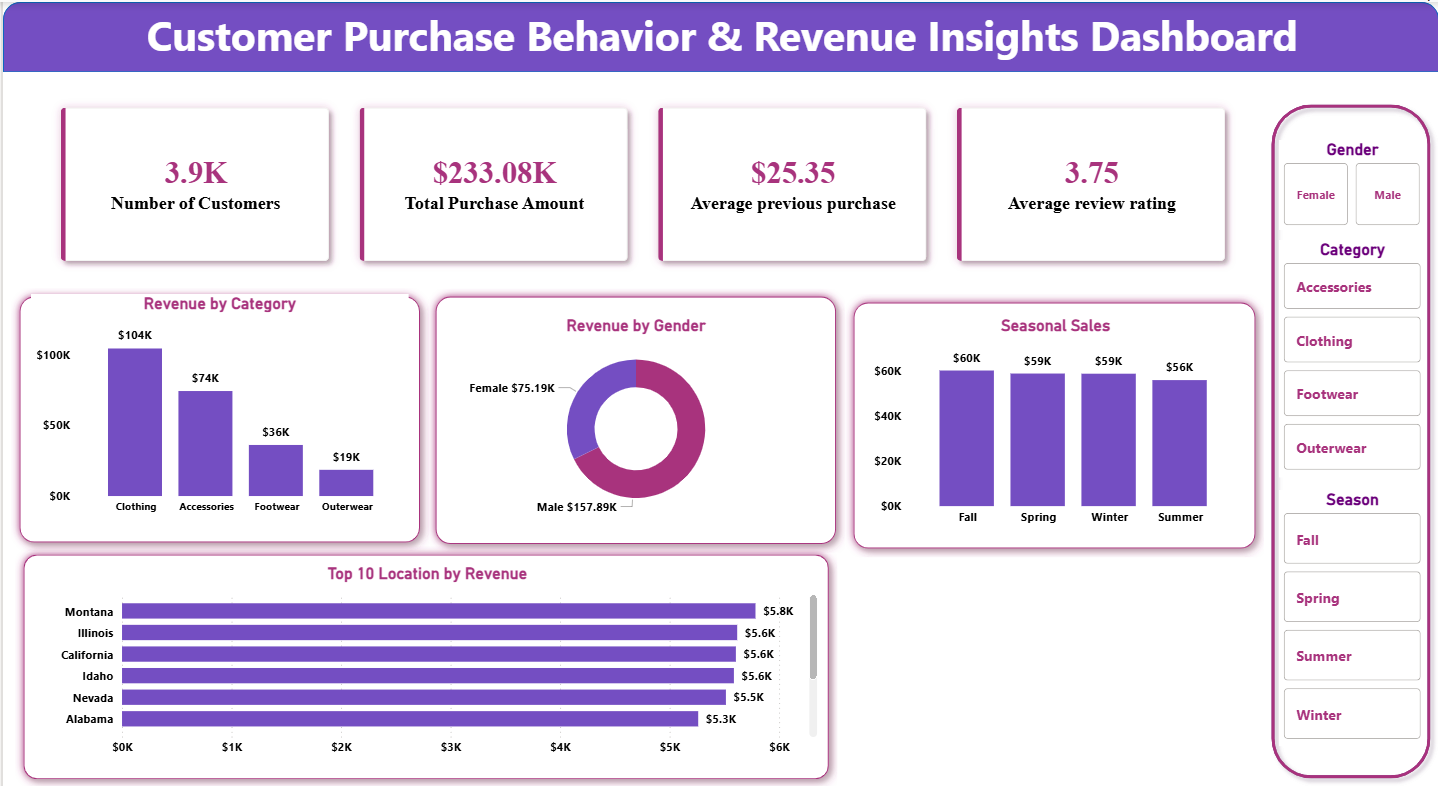

This screenshot's page, from the dashboard's own definition file:
{"tool":"powerbi","page":{"name":"Page 1","canvas":[1500,820],"ordinal":0},"visuals":[{"type":"shape","box":[880,304.8,437.7,274.9],"z":0},{"type":"shape","box":[443.7,298.8,436.3,276.4],"z":1000},{"type":"cardVisual","fields":{"Data":["cleaned_customer_data.Number of Customers","cleaned_customer_data.Total Purchase Amount","cleaned_customer_data.Average previous purchase","cleaned_customer_data.Average review rating"]},"box":[31.4,80.7,1275.9,218.1],"z":4000},{"type":"shape","box":[0,0,1500,73.2],"z":5000},{"type":"textbox","box":[13.4,0,1477.6,74.7],"z":6000},{"type":"donutChart","title":"Revenue by Gender","fields":{"Category":["cleaned_customer_data.gender"],"Y":["Sum(cleaned_customer_data.purchase_amount_usd)"]},"box":[470.6,328.7,382.5,216.6],"z":7000},{"type":"shape","box":[7.5,298.8,436.3,274.9],"z":8000},{"type":"clusteredColumnChart","title":"Revenue by Category","fields":{"Category":["cleaned_customer_data.category"],"Y":["Sum(cleaned_customer_data.purchase_amount_usd)"]},"box":[28.4,304.8,394.4,239],"z":9000},{"type":"shape","box":[13.4,567.7,859.1,252.5],"z":10000},{"type":"clusteredColumnChart","title":"Seasonal Sales","fields":{"Y":["Sum(cleaned_customer_data.purchase_amount_usd)"],"Category":["cleaned_customer_data.season"]},"box":[905.4,327.2,389.9,228.6],"z":11000},{"type":"clusteredBarChart","title":"Top 10 Location by Revenue","fields":{"Category":["cleaned_customer_data.location"],"Y":["Sum(cleaned_customer_data.purchase_amount_usd)"]},"box":[31.8,586.1,824,209.7],"z":12000},{"type":"shape","box":[1316.2,98.6,183.8,721.6],"z":12001},{"type":"advancedSlicerVisual","title":"Gender","fields":{"Values":["cleaned_customer_data.gender"]},"box":[1332.7,143.4,153.9,94.1],"z":12002},{"type":"advancedSlicerVisual","title":"Category","fields":{"Values":["cleaned_customer_data.category"]},"box":[1332.7,248,153.9,248],"z":12003},{"type":"advancedSlicerVisual","title":"Season","fields":{"Values":["cleaned_customer_data.season"]},"box":[1332.7,509.5,153.9,267.4],"z":12004}]}

Visuals, with their boxes in screenshot pixels (x1, y1, x2, y2), scaled from the page's 1500x820 canvas onto the 1438x786 screenshot:
shape: [844, 292, 1263, 556]
shape: [425, 286, 844, 551]
cardVisual - cleaned_customer_data.Number of Customers x cleaned_customer_data.Total Purchase Amount: [30, 77, 1253, 286]
shape: [0, 0, 1437, 70]
textbox: [13, 0, 1429, 72]
"Revenue by Gender" donutChart: [451, 315, 818, 523]
shape: [7, 286, 425, 550]
"Revenue by Category" clusteredColumnChart: [27, 292, 405, 521]
shape: [13, 544, 836, 785]
"Seasonal Sales" clusteredColumnChart: [868, 314, 1242, 533]
"Top 10 Location by Revenue" clusteredBarChart: [30, 562, 820, 763]
shape: [1262, 95, 1437, 785]
"Gender" advancedSlicerVisual: [1278, 137, 1425, 228]
"Category" advancedSlicerVisual: [1278, 238, 1425, 475]
"Season" advancedSlicerVisual: [1278, 488, 1425, 745]
